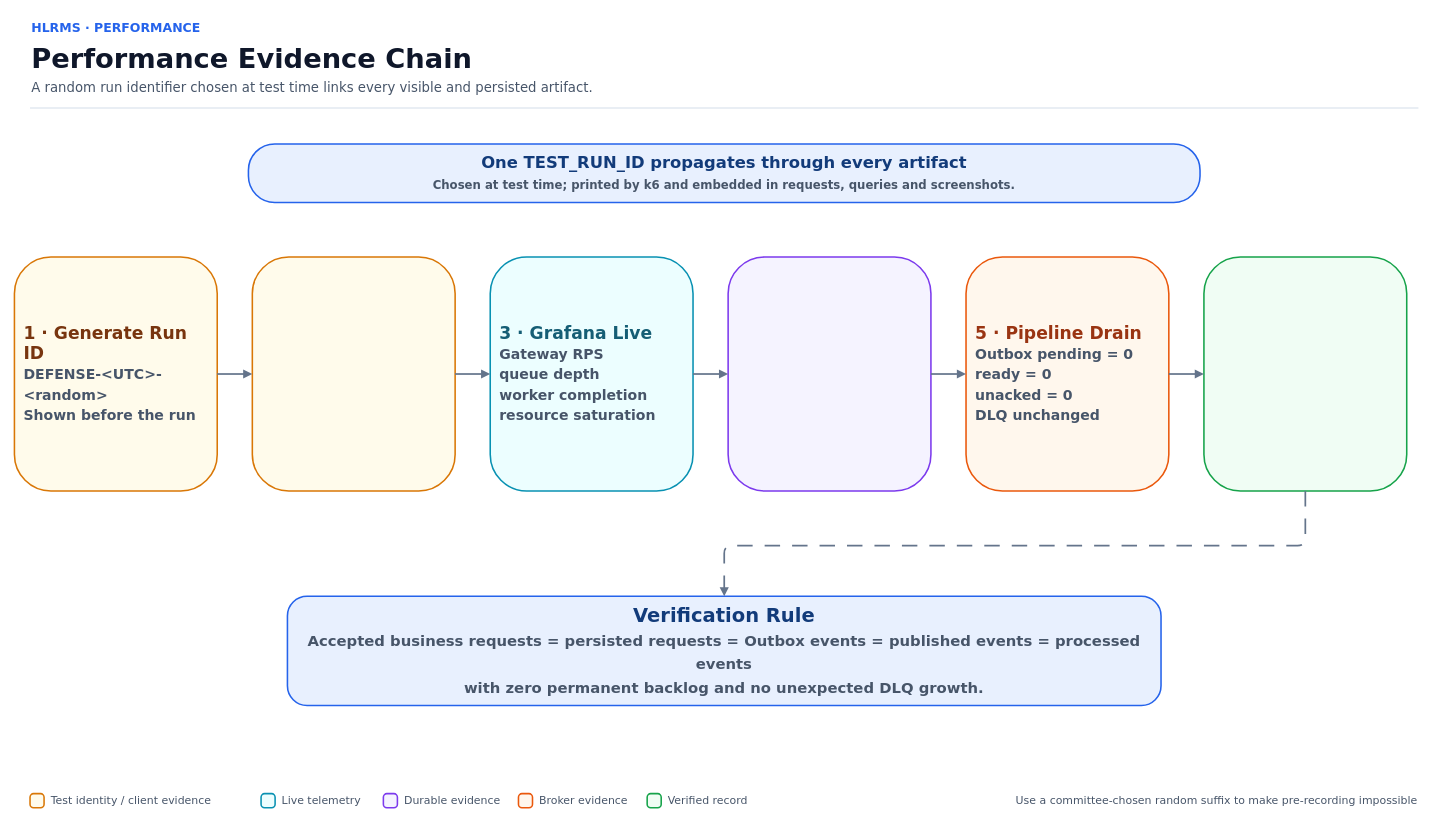
This 1433x825 diagram has some shape labels left out. The box of each missing label's shape, as (x1, y1, x2, y2) in pixels:
2 · k6 Executes Target / effective RPS iterations · drops · latency · failures: (251, 256, 456, 491)
4 · Database Reconcile requests outbox_events processed_events unique IDs: (727, 256, 931, 491)
6 · Final Record Script commit command hardware summary + screenshots: (1203, 256, 1407, 491)
